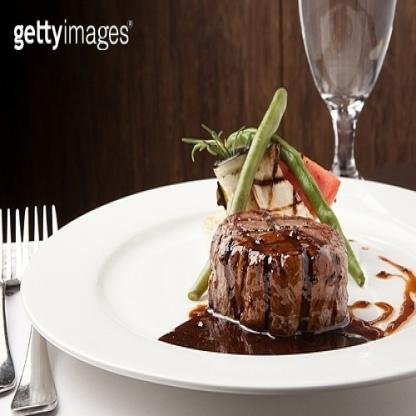Carne: (211, 217, 350, 337)
